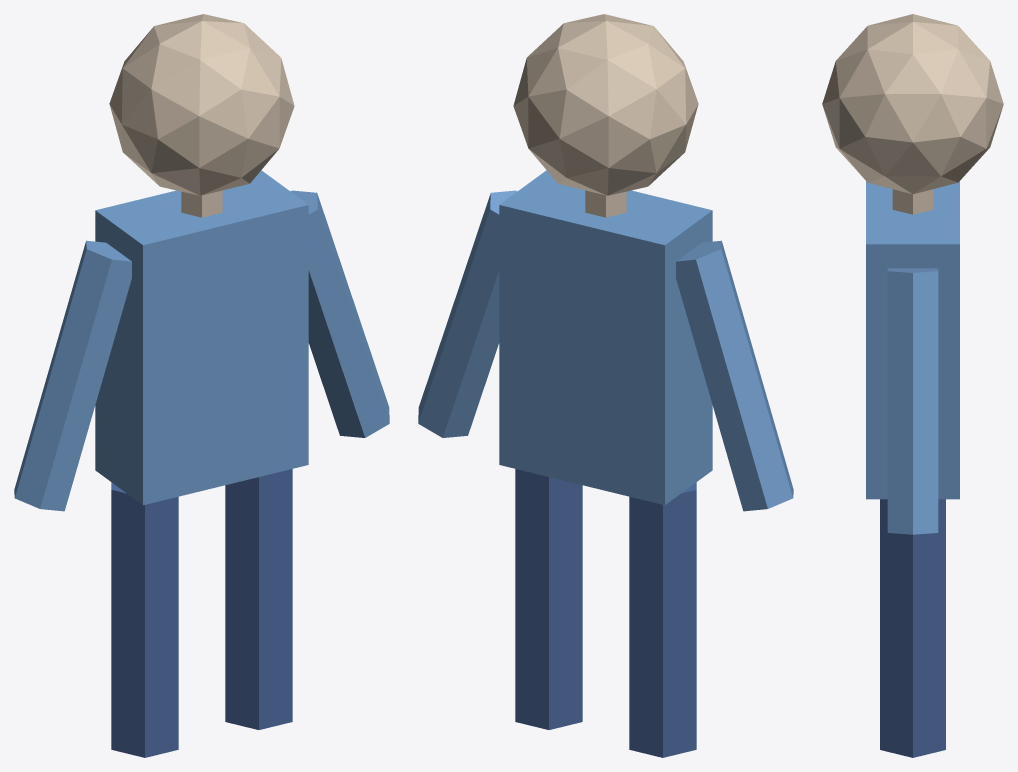
Rendered from user-figure-simple.glb.
The picture shows the model from 3 angles, left to right: view 1: azimuth 30°, elevation 25°; view 2: azimuth 150°, elevation 25°; view 3: azimuth 270°, elevation 25°; orthographic projection. The views are drawn at different scales.
Parts seen in each view (by area): view 1: geometry_0; view 2: geometry_0; view 3: geometry_0.
Part boxes in pixels (x1=…): geometry_0: x1=14, y1=14, x2=389, y2=757; geometry_0: x1=418, y1=14, x2=793, y2=757; geometry_0: x1=822, y1=14, x2=1003, y2=757.
Size of the model in its own units: 0.7232 by 1.3 by 0.31.
